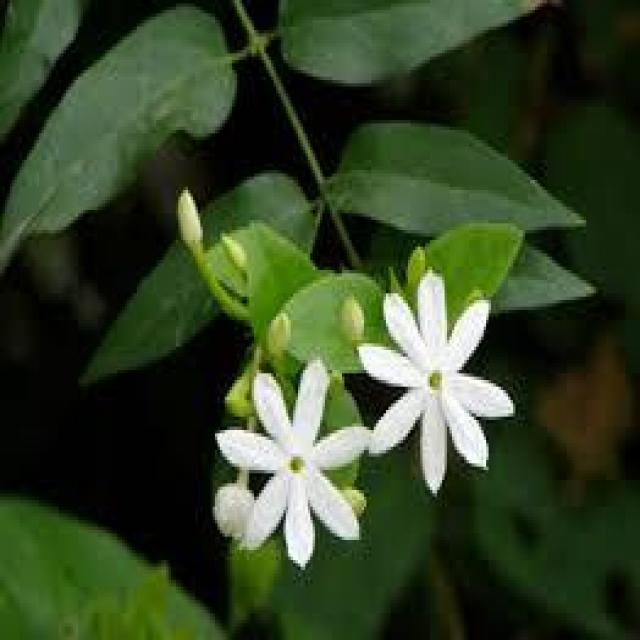organic waste: (357, 278, 518, 498), (208, 363, 381, 560)
